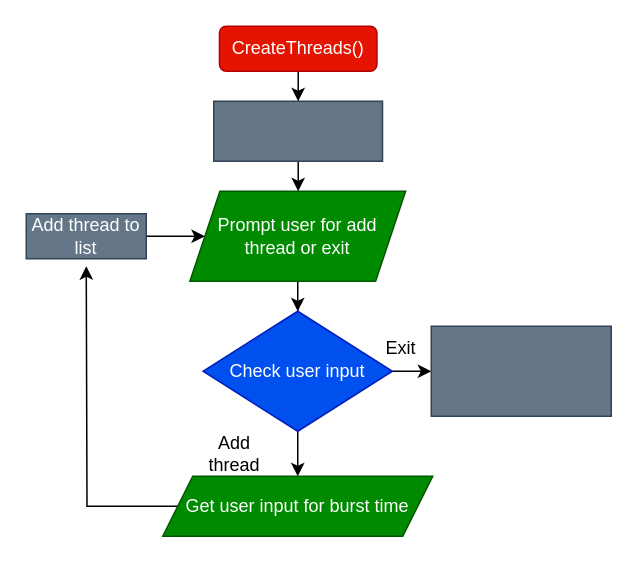
The diagram is 638 pixels wide and 563 high, and some of its shapes have lost their labels. Each missing label, with the centre of its shape:
"Create empty list to contain threads" goes at (x=297, y=130).
"Return list containing threads" goes at (x=520, y=370).
